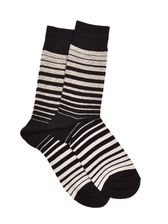sock: (18, 20, 147, 208)
